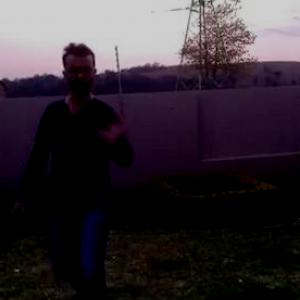follow_hand: (94, 104, 132, 146)
